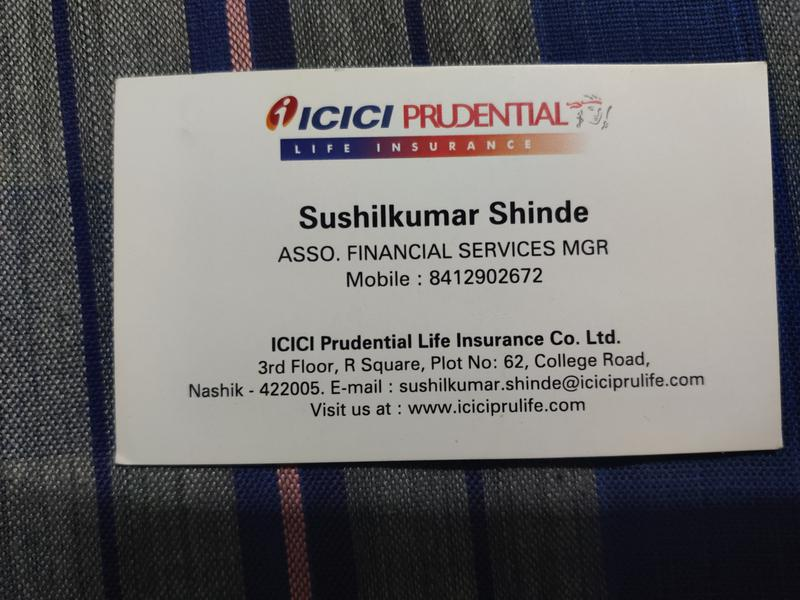card: (108, 59, 782, 466)
